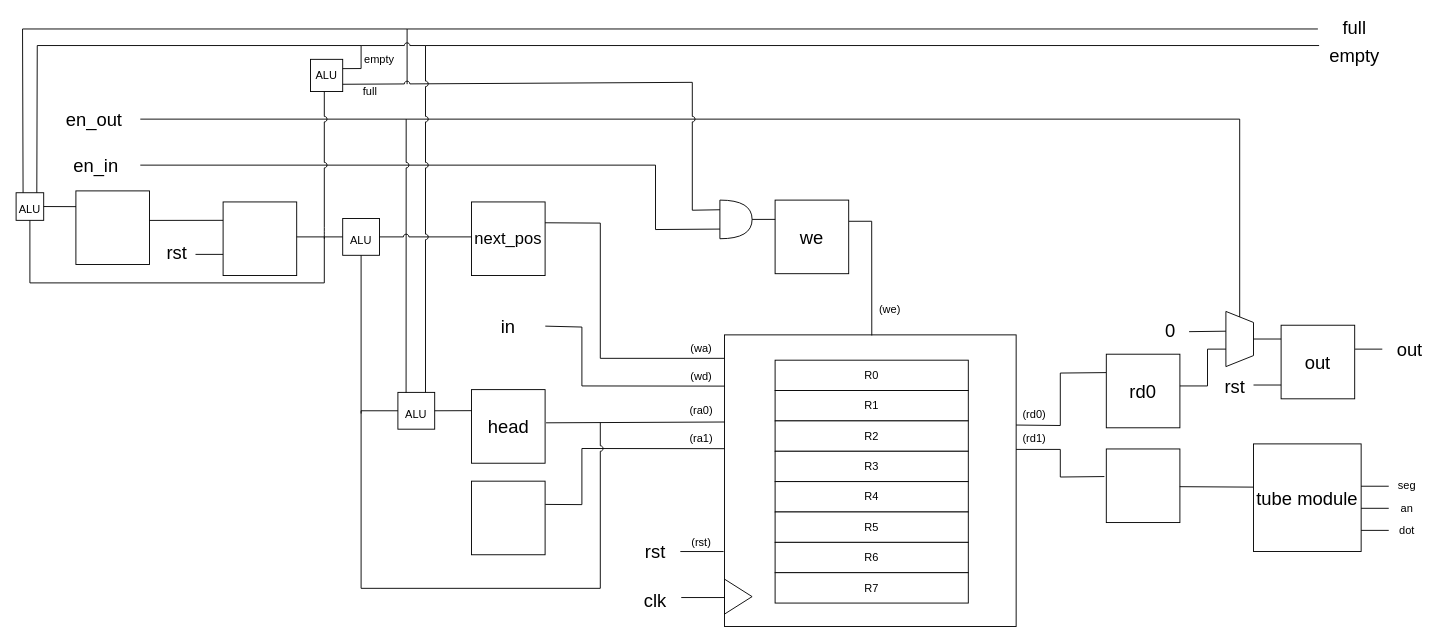
Image size: 1444x642. Some labels were removed from this diagram. Each missing label, with the centre of its shape:
"counter" goes at [259,238].
"counter _next" goes at [112,227].
"r_reg" goes at [1142,485].
"read" goes at [508,517].
